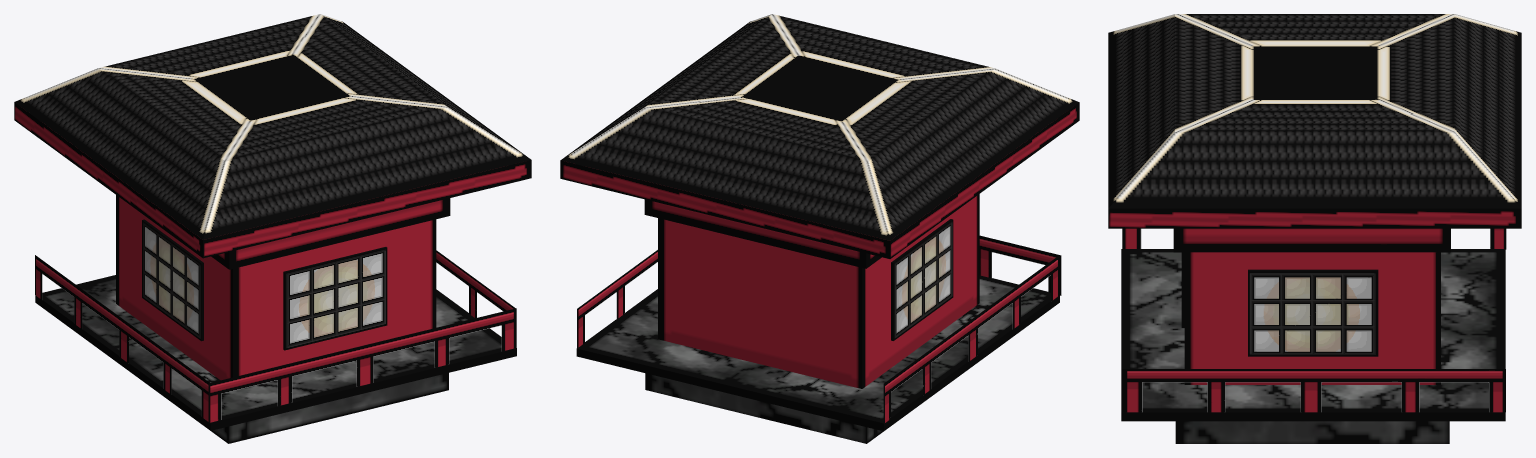
File: Bottom_tower.FBX
3 views of the same model, side by side, from view 1: azimuth 30°, elevation 25°; view 2: azimuth 150°, elevation 25°; view 3: azimuth 270°, elevation 25° (orthographic). The views are drawn at different scales.
Visible parts, largest first — view 1: Box010, Box008, Box001, Box005, Box002, Box003; view 2: Box010, Box001, Box008, Box005, Box003, Box002; view 3: Box010, Box008, Box001, Box005, Box002, Box003.
Part boxes in pixels (box(x1,y1,x2,y2)): Box010: box(14, 14, 531, 258); Box008: box(35, 250, 516, 430); Box001: box(116, 195, 436, 380); Box005: box(142, 219, 387, 350); Box002: box(211, 198, 450, 269); Box003: box(211, 373, 448, 443); Box010: box(560, 14, 1079, 258); Box001: box(658, 194, 979, 388); Box008: box(576, 235, 1061, 431); Box005: box(891, 219, 953, 340); Box003: box(645, 373, 883, 443); Box002: box(644, 199, 881, 268); Box010: box(1108, 14, 1521, 228); Box008: box(1121, 228, 1506, 421); Box001: box(1184, 252, 1440, 384); Box005: box(1181, 252, 1378, 356); Box002: box(1173, 228, 1450, 252); Box003: box(1175, 421, 1449, 443).
Bounding box in the file's own units: 64.98 × 53.52 × 64.6.
Materials: 2 (2 with a texture image).
